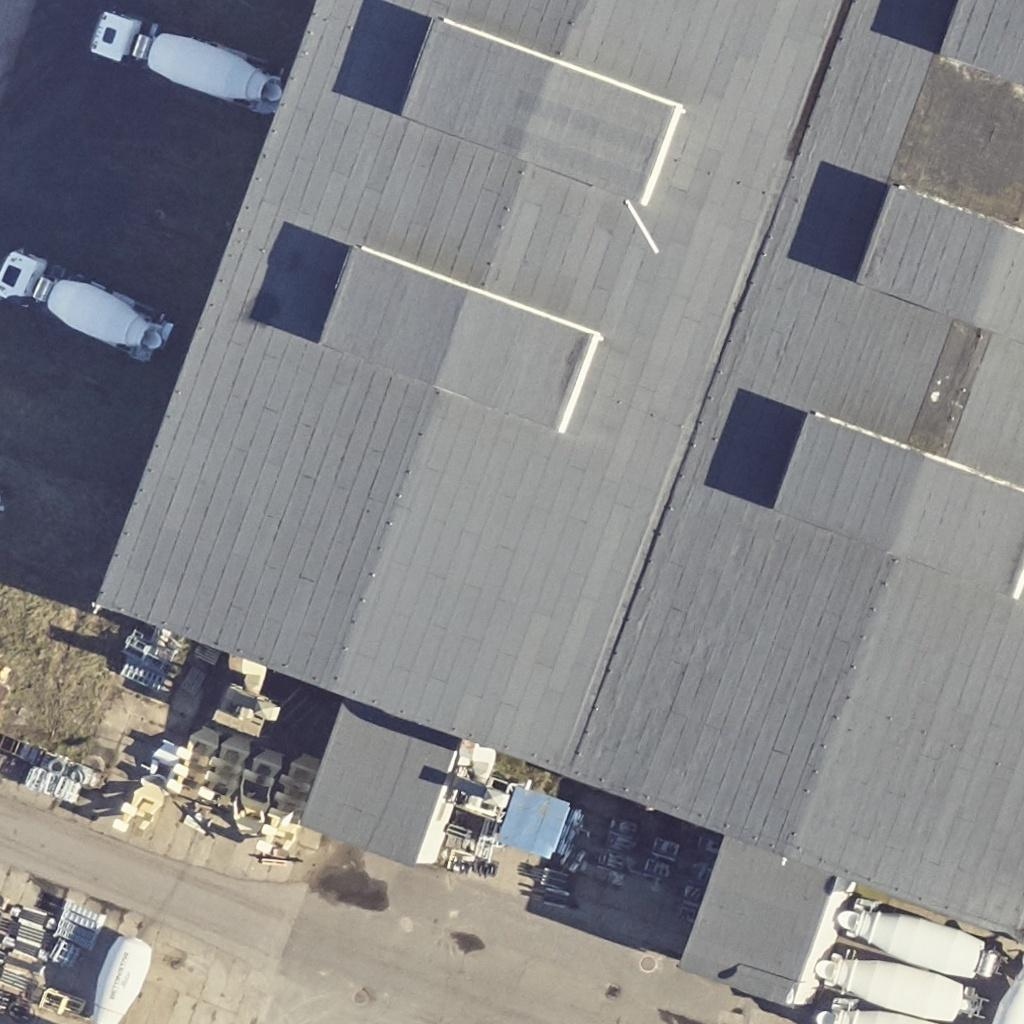betoniarka: (90, 11, 281, 112), (0, 250, 172, 360), (836, 899, 1002, 977)
